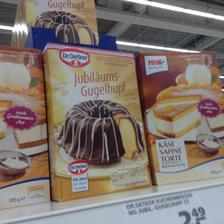Kuchen: (40, 40, 154, 200), (136, 45, 224, 182)
